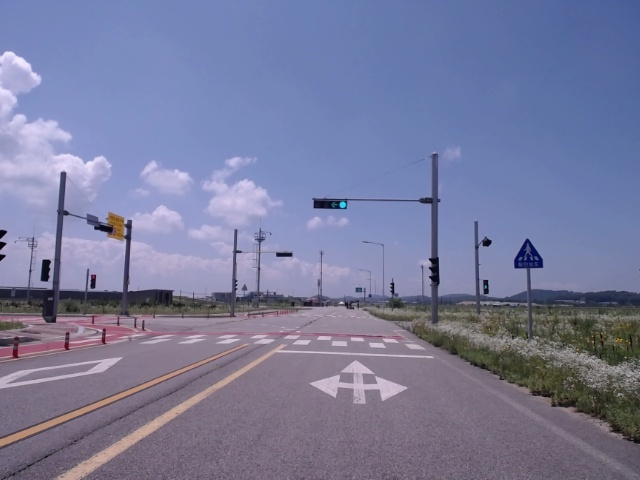all_green_4: (314, 197, 348, 211)
